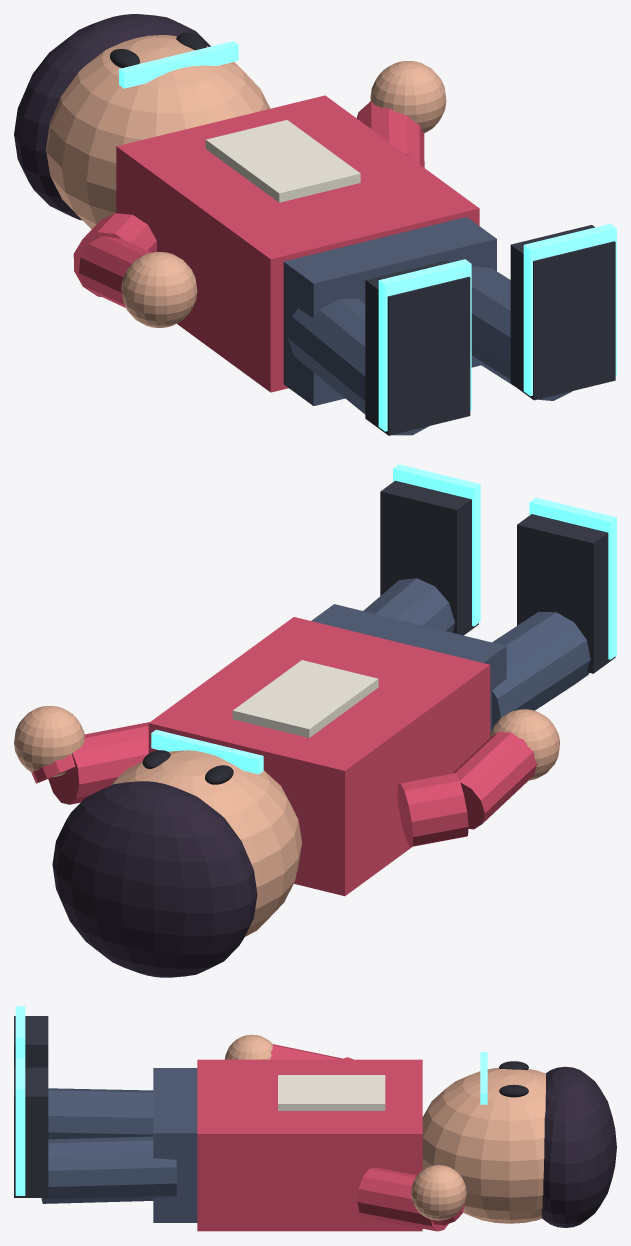
Rendered from recruiter.glb.
3 renders of one model, top to bottom at view 1: azimuth 30°, elevation 25°; view 2: azimuth 150°, elevation 25°; view 3: azimuth 270°, elevation 25°, orthographic. The views are drawn at different scales.
Visible parts, largest first — view 1: Torso, Head, ShoeL, ShoeR, Pelvis, HairCap, ShirtFront, LegL, HandL, LegR, HandR, SoleL (+5 smaller); view 2: Torso, HairCap, Head, ShoeL, ShoeR, LegL, ShirtFront, ArmLLower, Pelvis, ArmRUpper, ArmLUpper, HandR (+5 smaller); view 3: Torso, Head, HairCap, LegR, Pelvis, LegL, ShirtFront, ShoeR, ArmRUpper, HandR, SoleR, ShoeL (+4 smaller).
Boxes of the visible parts, box(x1,y1,x2,y2) form: Torso: box(116, 95, 479, 392); Head: box(46, 35, 270, 229); ShoeL: box(365, 260, 470, 435); ShoeR: box(510, 225, 615, 400); Pelvis: box(283, 217, 496, 405); HairCap: box(14, 14, 210, 220); ShirtFront: box(205, 120, 360, 202); LegL: box(288, 298, 429, 435); HandL: box(121, 252, 197, 327); LegR: box(471, 266, 571, 400); HandR: box(370, 61, 446, 133); SoleL: box(378, 259, 471, 431); Torso: box(148, 617, 490, 896); HairCap: box(52, 781, 257, 977); Head: box(110, 750, 301, 936); ShoeL: box(517, 514, 615, 673); ShoeR: box(380, 480, 478, 635); LegL: box(492, 612, 590, 729); ShirtFront: box(232, 660, 378, 737); ArmLLower: box(452, 731, 537, 829); Pelvis: box(311, 604, 506, 733); ArmRUpper: box(48, 722, 149, 804); ArmLUpper: box(397, 773, 468, 846); HandR: box(14, 706, 84, 777); Torso: box(197, 1059, 422, 1231); Head: box(422, 1067, 545, 1223); HairCap: box(541, 1066, 616, 1227); LegR: box(41, 1136, 176, 1203); Pelvis: box(153, 1068, 197, 1222); LegL: box(48, 1088, 153, 1139); ShirtFront: box(278, 1075, 385, 1110); ShoeR: box(14, 1067, 48, 1197); ArmRUpper: box(357, 1167, 448, 1231); HandR: box(411, 1165, 466, 1220); SoleR: box(15, 1058, 25, 1195); ShoeL: box(14, 1016, 48, 1067).
Size of the model in its own units: 1.74 by 0.885 by 2.81.
